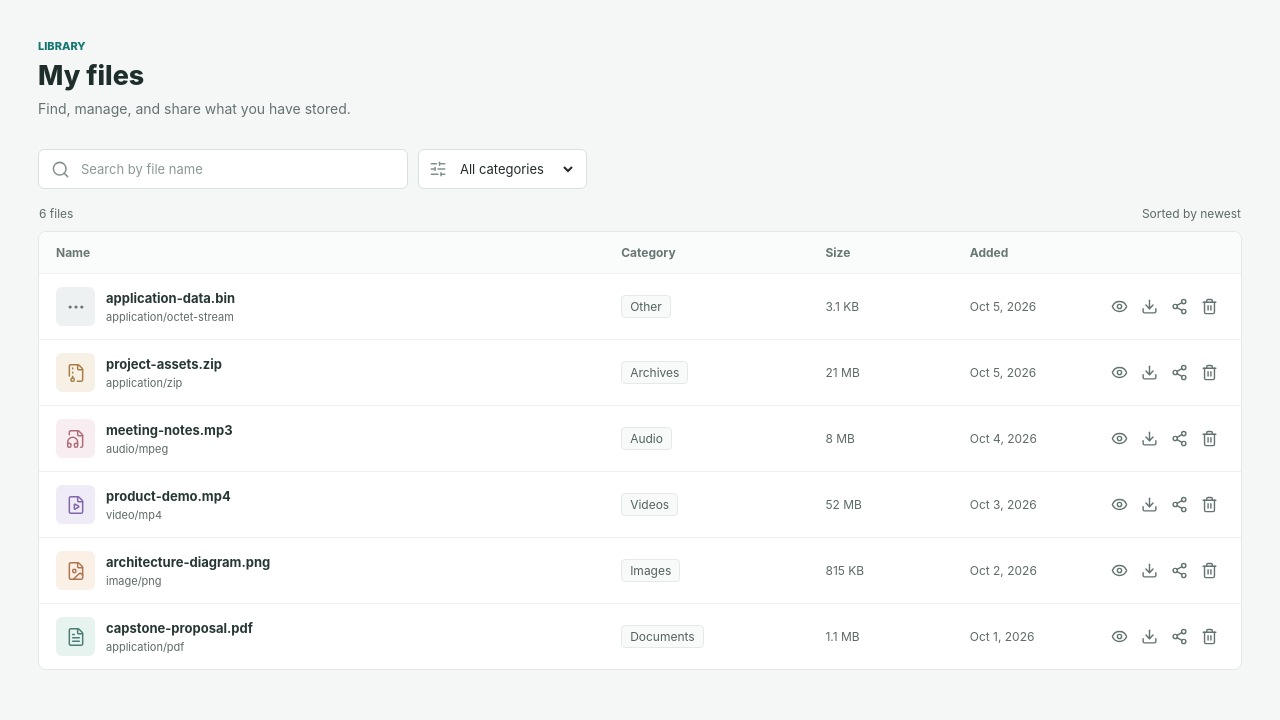
Test: file library states › asks the backend for the selected category
Check: the link "capstone-proposal.pdf" is shown, box [106,620,253,636]
Step 1. Select "Images" in the dropdown named "Category" → (516, 169), box [456,160,576,178]
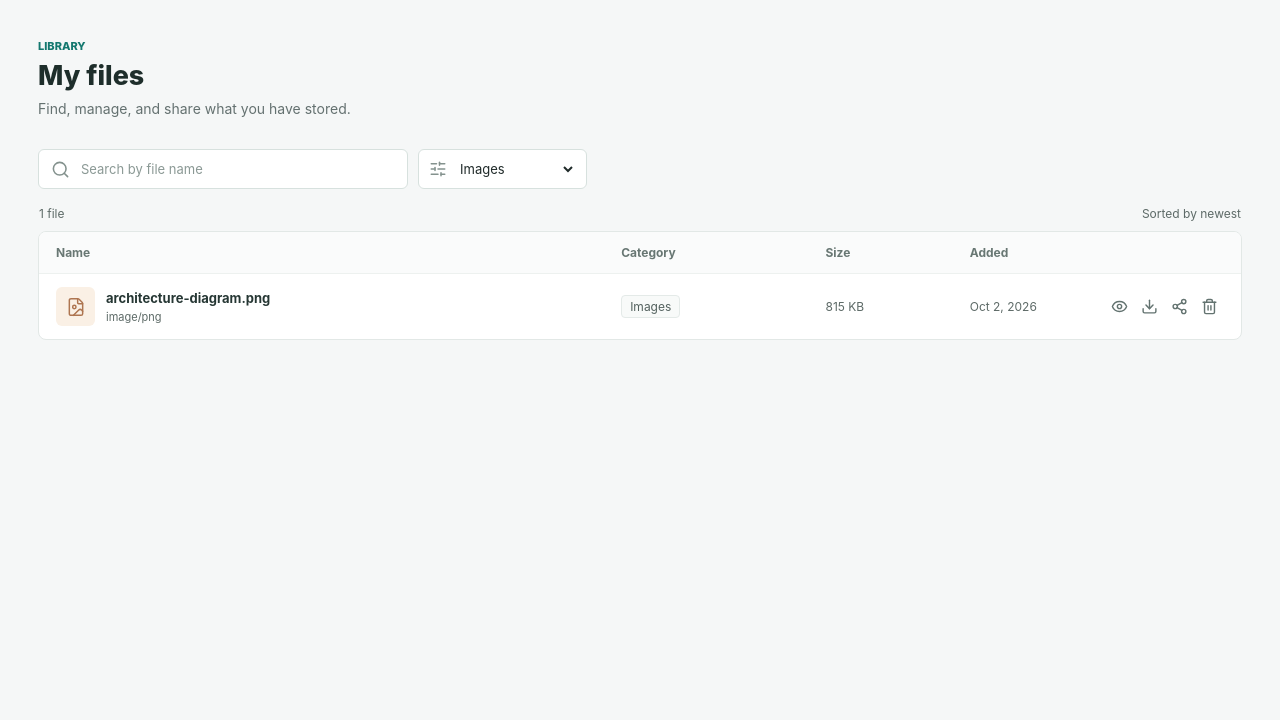
Check: the link "architecture-diagram.png" is shown, box [106,290,270,306]
Check: the link "capstone-proposal.pdf" is gone
Check: the text "1 file" is shown, box [39,206,64,221]
